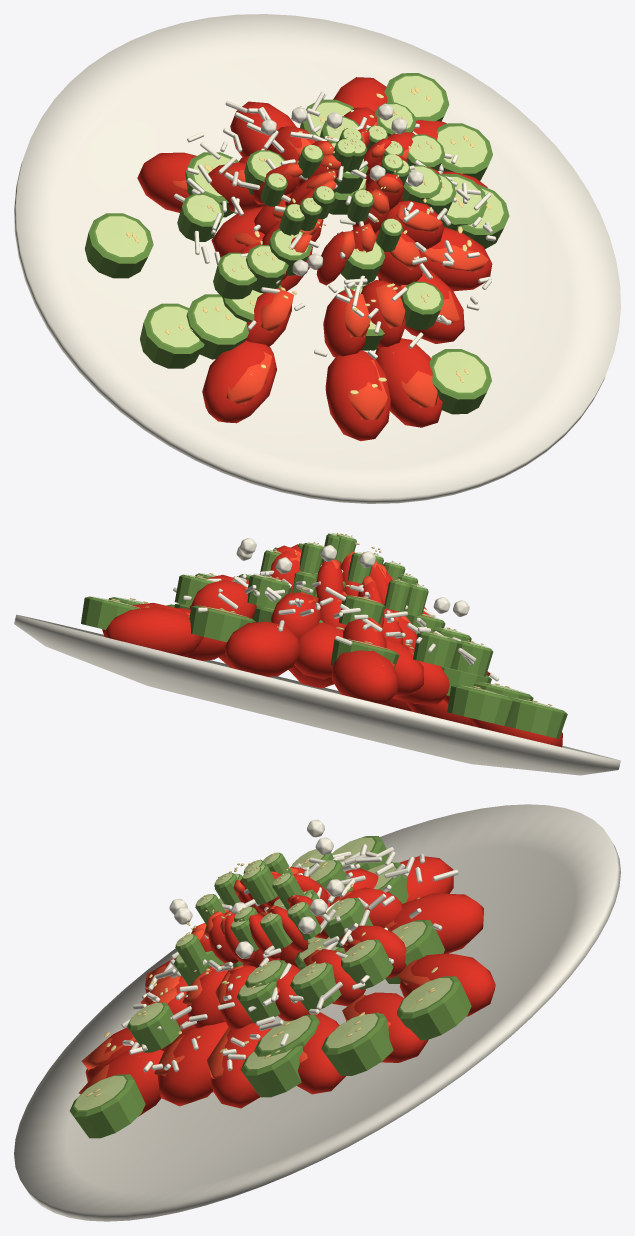
Rendered from shopska_salad-default.glb.
3 renders of one model, top to bottom at view 1: azimuth 30°, elevation 25°; view 2: azimuth 150°, elevation 25°; view 3: azimuth 270°, elevation 25°, orthographic. The views are drawn at different scales.
Parts seen in each view (by area): view 1: White salad plate, shopska_salad-default__Bright_tomato_skin, Central salad mound shopska_salad-default__Bright_tomato_ski (×2), shopska_salad-default__Pale_cucumber_centres, Central salad mound shopska_salad-default__Cucumber_dark_gre (×2), shopska_salad-default__Cucumber_dark_green_rind, shopska_salad-default__White_grated_cheese, Central salad mound shopska_salad-default__Pale_cucumber_cen (×2), Central salad mound shopska_salad-default__Red_cut_tomato_fl (×2), shopska_salad-default__Red_cut_tomato_flesh, shopska_salad-default__Vegetable_seed_centres; view 2: White salad plate, shopska_salad-default__Bright_tomato_skin, Central salad mound shopska_salad-default__Cucumber_dark_gre (×2), shopska_salad-default__Cucumber_dark_green_rind, Central salad mound shopska_salad-default__Bright_tomato_ski (×2), shopska_salad-default__White_grated_cheese, shopska_salad-default__Pale_cucumber_centres, Central salad mound shopska_salad-default__Red_cut_tomato_fl, Central salad mound shopska_salad-default__Pale_cucumber_cen; view 3: White salad plate, shopska_salad-default__Bright_tomato_skin, Central salad mound shopska_salad-default__Cucumber_dark_gre (×2), shopska_salad-default__Cucumber_dark_green_rind, Central salad mound shopska_salad-default__Bright_tomato_ski (×2), shopska_salad-default__White_grated_cheese, shopska_salad-default__Pale_cucumber_centres, Central salad mound shopska_salad-default__Pale_cucumber_cen (×2), shopska_salad-default__Red_cut_tomato_flesh, Central salad mound shopska_salad-default__Red_cut_tomato_fl (×2).
Boxes of the visible parts, x1,y1,x2,y2 form: White salad plate: (14,14,620,503); shopska_salad-default__Bright_tomato_skin: (137,77,492,441); Central salad mound shopska_salad-default__Bright_tomato_ski (×2): (208,107,444,357); shopska_salad-default__Pale_cucumber_centres: (95,76,503,392); Central salad mound shopska_salad-default__Cucumber_dark_gre (×2): (177,102,456,329); shopska_salad-default__Cucumber_dark_green_rind: (85,73,509,414); shopska_salad-default__White_grated_cheese: (174,92,495,359); Central salad mound shopska_salad-default__Pale_cucumber_cen (×2): (186,104,452,309); Central salad mound shopska_salad-default__Red_cut_tomato_fl (×2): (223,122,442,337); shopska_salad-default__Red_cut_tomato_flesh: (159,102,488,420); shopska_salad-default__Vegetable_seed_centres: (126,87,490,394); White salad plate: (14,614,620,775); shopska_salad-default__Bright_tomato_skin: (102,602,562,747); Central salad mound shopska_salad-default__Cucumber_dark_gre (×2): (174,533,493,676); shopska_salad-default__Cucumber_dark_green_rind: (81,596,567,738); Central salad mound shopska_salad-default__Bright_tomato_ski (×2): (189,544,490,703); shopska_salad-default__White_grated_cheese: (173,538,499,681); shopska_salad-default__Pale_cucumber_centres: (93,596,558,708); Central salad mound shopska_salad-default__Red_cut_tomato_fl: (290,547,426,609); Central salad mound shopska_salad-default__Pale_cucumber_cen: (186,571,488,647); White salad plate: (14,804,620,1221); shopska_salad-default__Bright_tomato_skin: (85,856,495,1116); Central salad mound shopska_salad-default__Cucumber_dark_gre (×2): (127,852,393,1052); shopska_salad-default__Cucumber_dark_green_rind: (70,836,471,1138); Central salad mound shopska_salad-default__Bright_tomato_ski (×2): (160,866,406,1050); shopska_salad-default__White_grated_cheese: (121,819,458,1072); shopska_salad-default__Pale_cucumber_centres: (74,837,452,1110); Central salad mound shopska_salad-default__Pale_cucumber_cen (×2): (129,849,375,1025); shopska_salad-default__Red_cut_tomato_flesh: (79,920,430,1094); Central salad mound shopska_salad-default__Red_cut_tomato_fl (×2): (140,867,360,1005).
Size of the model in its own units: 0.26 by 0.1329 by 0.2314.
